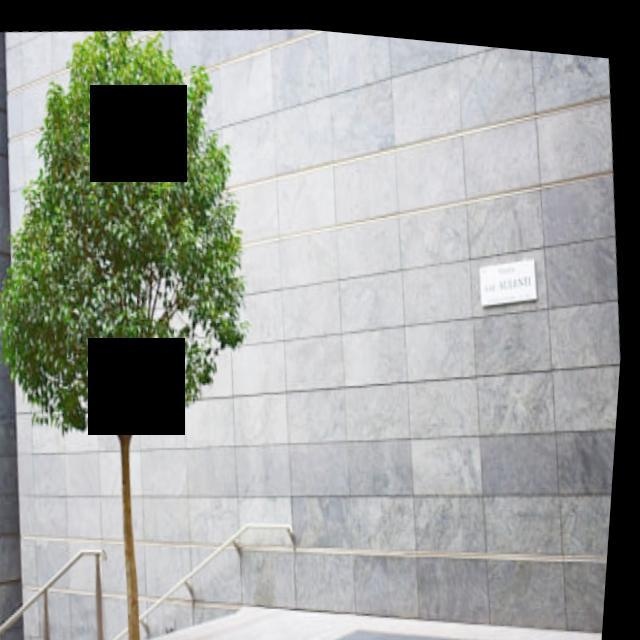Tree: (1, 8, 304, 640)
